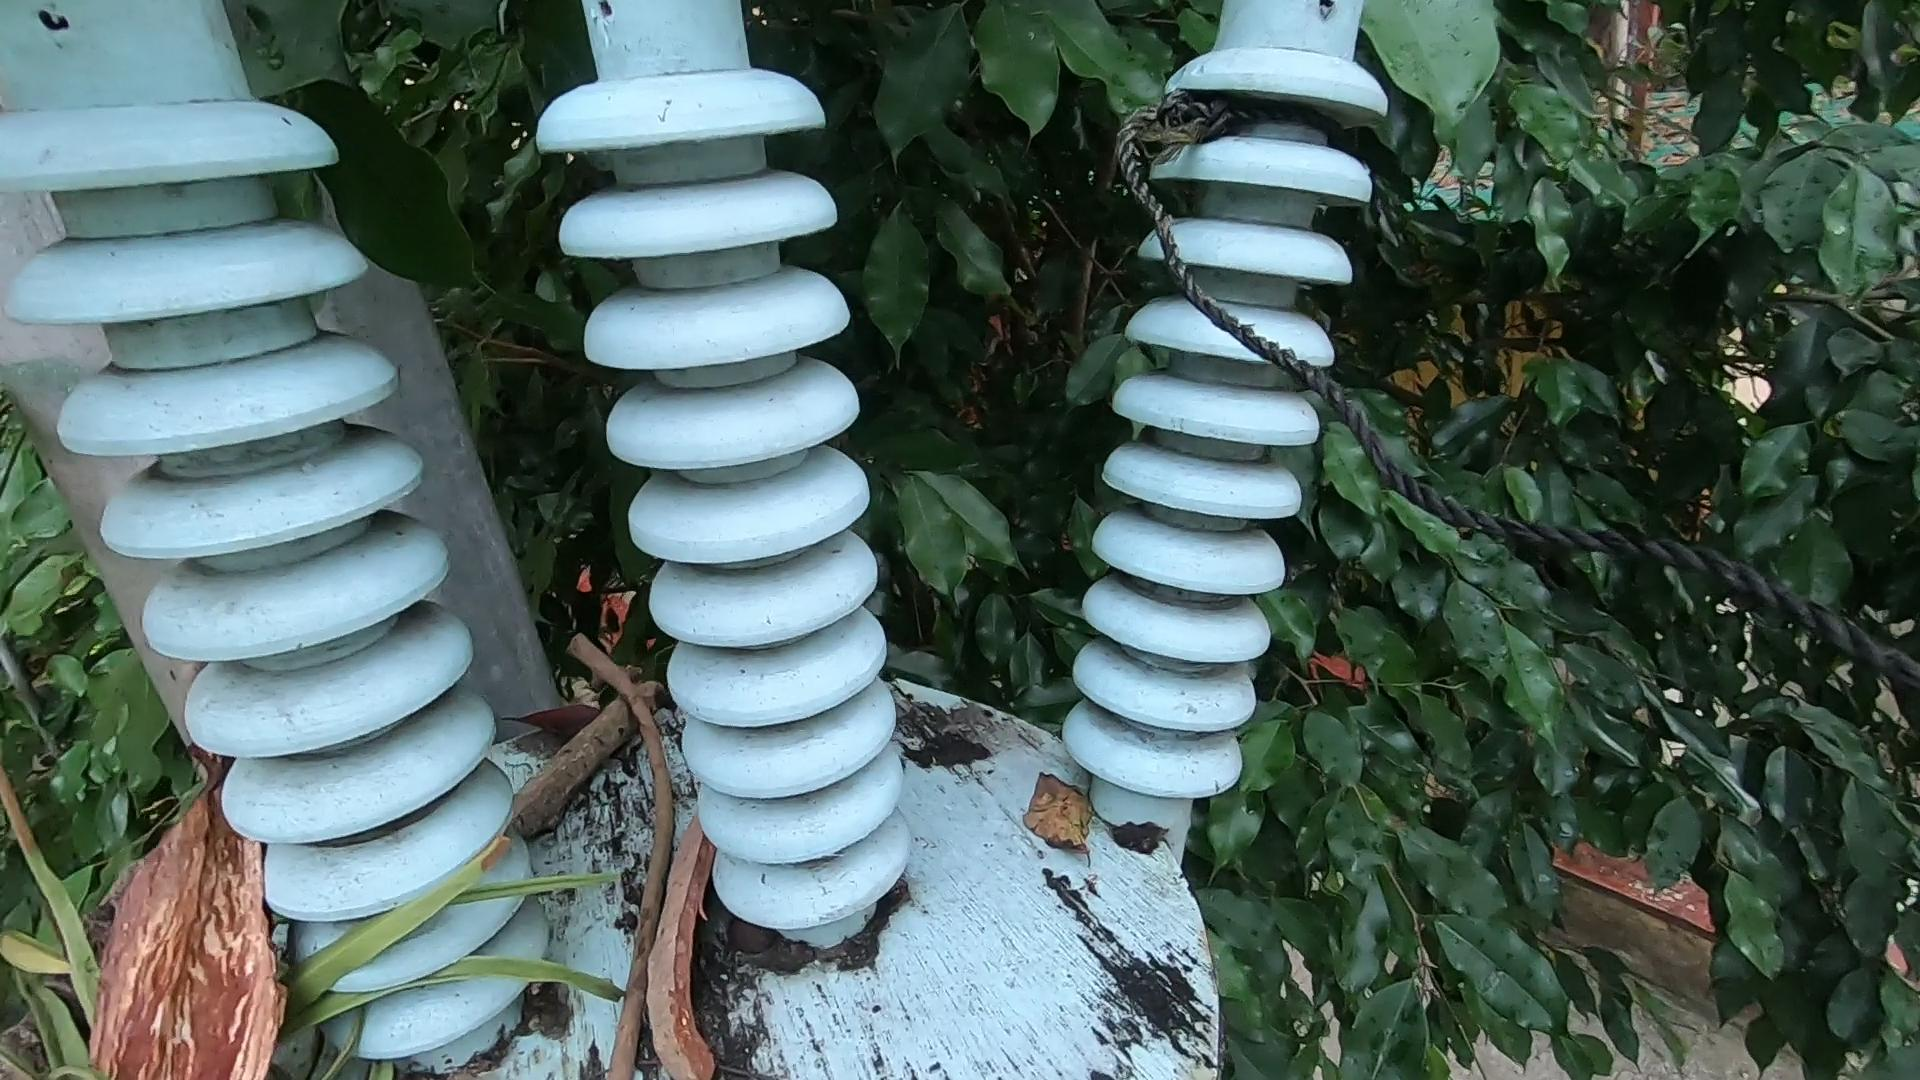branch with leaves: (29, 651, 624, 1080)
leaf: (1029, 732, 1124, 876)
mahogany fruit: (116, 767, 258, 1080), (679, 804, 703, 1080)
tree branch: (560, 618, 700, 1080)
